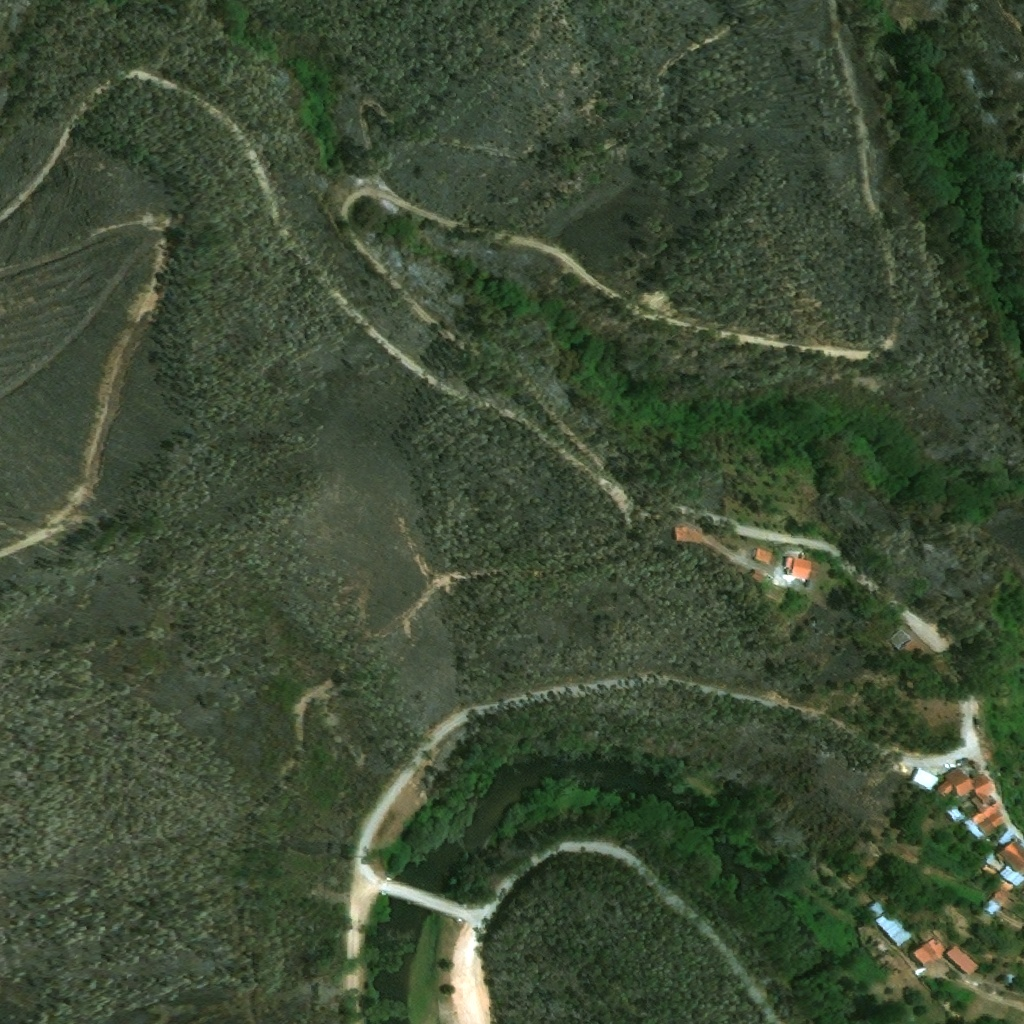0 no-damage: (862, 900, 916, 949), (964, 799, 1006, 839), (891, 628, 931, 664), (909, 937, 947, 972), (945, 944, 981, 977), (997, 827, 1023, 872), (939, 766, 976, 796), (984, 881, 1015, 916), (914, 766, 941, 789), (974, 772, 997, 798), (1001, 864, 1023, 887), (793, 557, 814, 578), (755, 546, 775, 563), (947, 803, 966, 820), (678, 526, 700, 538), (754, 569, 765, 580), (807, 578, 813, 586)
